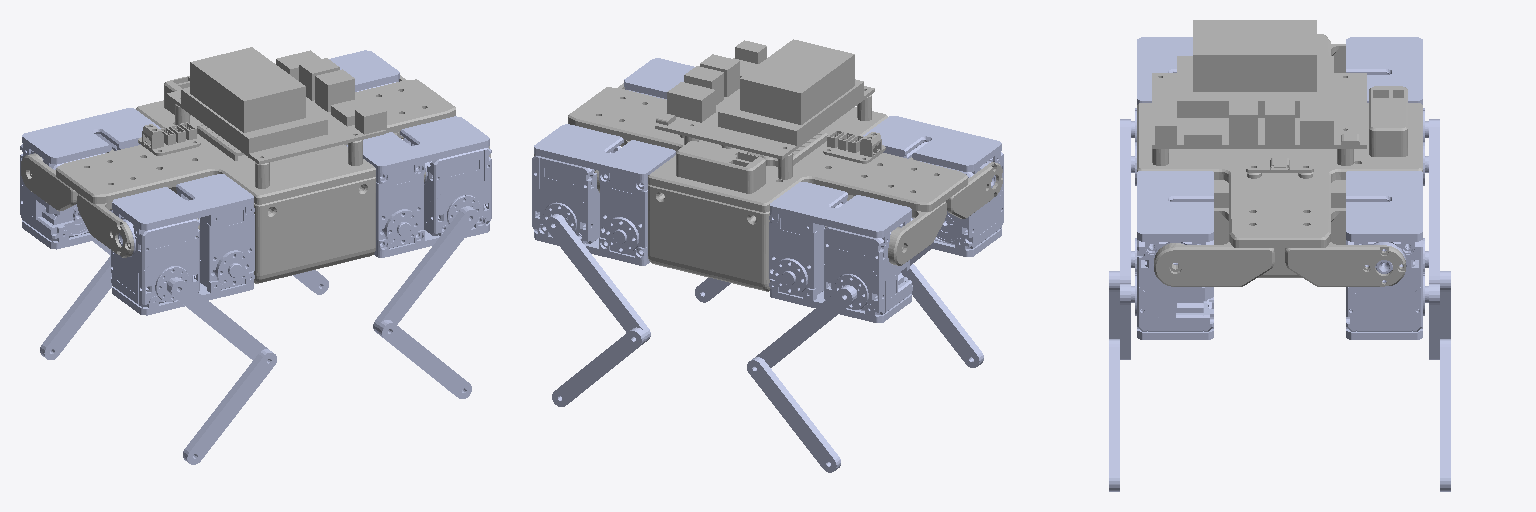
The robot description file, URDF, robot "3degree test platform":
<?xml version="1.0" encoding="utf-8"?>
<!-- This URDF was automatically created by SolidWorks to URDF Exporter! Originally created by [author] ([email redacted]) 
     Commit Version: 1.6.0-4-g7f85cfe  Build Version: 1.6.7995.38578
     For more information, please see http://wiki.ros.org/sw_urdf_exporter -->
<robot
  name="3degree test platform">
  <link
    name="base_link">
    <inertial>
      <origin
        xyz="-0.0311197086407892 -0.0204145251191985 0.000924896896361796"
        rpy="0 0 0" />
      <mass
        value="0.61039036366511" />
      <inertia
        ixx="0.000435135519969349"
        ixy="5.92110751523617E-06"
        ixz="-8.31280092665416E-08"
        iyy="0.000844122554378993"
        iyz="-1.76463324002978E-07"
        izz="0.000521417037543477" />
    </inertial>
    <visual>
      <origin
        xyz="0 0 0"
        rpy="0 0 0" />
      <geometry>
        <mesh
          filename="package://3degree test platform/meshes/base_link.STL" />
      </geometry>
      <material
        name="">
        <color
          rgba="0.752941176470588 0.752941176470588 0.752941176470588 1" />
      </material>
    </visual>
    <collision>
      <origin
        xyz="0 0 0"
        rpy="0 0 0" />
      <geometry>
        <mesh
          filename="package://3degree test platform/meshes/base_link.STL" />
      </geometry>
    </collision>
  </link>
  <link
    name="fl_Link">
    <inertial>
      <origin
        xyz="0.0362395767029127 -0.0121398501384815 -0.000881528506286373"
        rpy="0 0 0" />
      <mass
        value="0.11560667389092" />
      <inertia
        ixx="2.76732081187136E-05"
        ixy="-6.56282969538307E-09"
        ixz="-3.60918479312612E-07"
        iyy="2.76822507262423E-05"
        iyz="-2.55297253815695E-07"
        izz="3.30828540658261E-05" />
    </inertial>
    <visual>
      <origin
        xyz="0 0 0"
        rpy="0 0 0" />
      <geometry>
        <mesh
          filename="package://3degree test platform/meshes/fl_Link.STL" />
      </geometry>
      <material
        name="">
        <color
          rgba="0.792156862745098 0.819607843137255 0.933333333333333 1" />
      </material>
    </visual>
    <collision>
      <origin
        xyz="0 0 0"
        rpy="0 0 0" />
      <geometry>
        <mesh
          filename="package://3degree test platform/meshes/fl_Link.STL" />
      </geometry>
    </collision>
  </link>
  <joint
    name="fl"
    type="continuous">
    <origin
      xyz="0.00723678392728446 0.0485586045266115 -0.0196700000000004"
      rpy="1.5707963267949 0 0" />
    <parent
      link="base_link" />
    <child
      link="fl_Link" />
    <axis
      xyz="1 0 0" />
  </joint>
  <link
    name="flu_Link">
    <inertial>
      <origin
        xyz="-0.0265165020995654 -0.026516503711289 -0.00249999999573354"
        rpy="0 0 0" />
      <mass
        value="0.00406221232038081" />
      <inertia
        ixx="1.16080374642842E-06"
        ixy="-1.11891143624946E-06"
        ixz="9.24909482513556E-13"
        iyy="1.1608018641751E-06"
        iyz="9.24941943173796E-13"
        izz="2.30467945508178E-06" />
    </inertial>
    <visual>
      <origin
        xyz="0 0 0"
        rpy="0 0 0" />
      <geometry>
        <mesh
          filename="package://3degree test platform/meshes/flu_Link.STL" />
      </geometry>
      <material
        name="">
        <color
          rgba="0.792156862745098 0.819607843137255 0.933333333333333 1" />
      </material>
    </visual>
    <collision>
      <origin
        xyz="0 0 0"
        rpy="0 0 0" />
      <geometry>
        <mesh
          filename="package://3degree test platform/meshes/flu_Link.STL" />
      </geometry>
    </collision>
  </link>
  <joint
    name="flu"
    type="continuous">
    <origin
      xyz="0.0524464492407209 -0.024 -0.0209199999999988"
      rpy="0 0 0" />
    <parent
      link="fl_Link" />
    <child
      link="flu_Link" />
    <axis
      xyz="0 0 1" />
  </joint>
  <link
    name="fld_Link">
    <inertial>
      <origin
        xyz="0.0229815351311272 -0.0229799456975695 -0.00250250463302092"
        rpy="0 0 0" />
      <mass
        value="0.00356358894577057" />
      <inertia
        ixx="7.91122356308543E-07"
        ixy="7.54469385950876E-07"
        ixz="-5.80053827144257E-13"
        iyy="7.91255557818437E-07"
        iyz="2.43987109787925E-13"
        izz="1.56752946213248E-06" />
    </inertial>
    <visual>
      <origin
        xyz="0 0 0"
        rpy="0 0 0" />
      <geometry>
        <mesh
          filename="package://3degree test platform/meshes/fld_Link.STL" />
      </geometry>
      <material
        name="">
        <color
          rgba="0.792156862745098 0.819607843137255 0.933333333333333 1" />
      </material>
    </visual>
    <collision>
      <origin
        xyz="0 0 0"
        rpy="0 0 0" />
      <geometry>
        <mesh
          filename="package://3degree test platform/meshes/fld_Link.STL" />
      </geometry>
    </collision>
  </link>
  <joint
    name="fld"
    type="continuous">
    <origin
      xyz="-0.053033004189764 -0.053033008613312 -0.0049975000000005"
      rpy="0 0 0" />
    <parent
      link="flu_Link" />
    <child
      link="fld_Link" />
    <axis
      xyz="0 0 1" />
  </joint>
  <link
    name="fr_Link">
    <inertial>
      <origin
        xyz="0.0353657181607637 -0.0121399787446427 0.000881435283078963"
        rpy="0 0 0" />
      <mass
        value="0.115606879207845" />
      <inertia
        ixx="2.76728186374306E-05"
        ixy="3.82696997243698E-09"
        ixz="-3.378501964664E-07"
        iyy="2.76818351379137E-05"
        iyz="2.55279417459229E-07"
        izz="3.30820470853785E-05" />
    </inertial>
    <visual>
      <origin
        xyz="0 0 0"
        rpy="0 0 0" />
      <geometry>
        <mesh
          filename="package://3degree test platform/meshes/fr_Link.STL" />
      </geometry>
      <material
        name="">
        <color
          rgba="0.792156862745098 0.819607843137255 0.933333333333333 1" />
      </material>
    </visual>
    <collision>
      <origin
        xyz="0 0 0"
        rpy="0 0 0" />
      <geometry>
        <mesh
          filename="package://3degree test platform/meshes/fr_Link.STL" />
      </geometry>
    </collision>
  </link>
  <joint
    name="fr"
    type="continuous">
    <origin
      xyz="0.00723678407973238 -0.0485586045266115 -0.0196700000000008"
      rpy="1.5707963267949 0 0" />
    <parent
      link="base_link" />
    <child
      link="fr_Link" />
    <axis
      xyz="1 0 0" />
  </joint>
  <link
    name="fru_Link">
    <inertial>
      <origin
        xyz="-0.0265165030387197 -0.0265165045323048 0.00250000000426577"
        rpy="0 0 0" />
      <mass
        value="0.00406221250069797" />
      <inertia
        ixx="1.16080869001207E-06"
        ixy="-1.11891150591471E-06"
        ixz="9.24909485923803E-13"
        iyy="1.16079707496863E-06"
        iyz="9.24941947371285E-13"
        izz="2.30467960900816E-06" />
    </inertial>
    <visual>
      <origin
        xyz="0 0 0"
        rpy="0 0 0" />
      <geometry>
        <mesh
          filename="package://3degree test platform/meshes/fru_Link.STL" />
      </geometry>
      <material
        name="">
        <color
          rgba="0.792156862745098 0.819607843137255 0.933333333333333 1" />
      </material>
    </visual>
    <collision>
      <origin
        xyz="0 0 0"
        rpy="0 0 0" />
      <geometry>
        <mesh
          filename="package://3degree test platform/meshes/fru_Link.STL" />
      </geometry>
    </collision>
  </link>
  <joint
    name="fru"
    type="continuous">
    <origin
      xyz="0.0524464492407211 -0.0239999999999998 0.0209200000000011"
      rpy="0 0 0" />
    <parent
      link="fr_Link" />
    <child
      link="fru_Link" />
    <axis
      xyz="0 0 1" />
  </joint>
  <link
    name="frd_Link">
    <inertial>
      <origin
        xyz="0.022981633797964 -0.0229799882163145 0.00250249536696708"
        rpy="0 0 0" />
      <mass
        value="0.00356358008962891" />
      <inertia
        ixx="7.91115328078481E-07"
        ixy="7.54462412610955E-07"
        ixz="-5.80055447102428E-13"
        iyy="7.91249536329309E-07"
        iyz="2.43987801444827E-13"
        izz="1.56751643455364E-06" />
    </inertial>
    <visual>
      <origin
        xyz="0 0 0"
        rpy="0 0 0" />
      <geometry>
        <mesh
          filename="package://3degree test platform/meshes/frd_Link.STL" />
      </geometry>
      <material
        name="">
        <color
          rgba="0.792156862745098 0.819607843137255 0.933333333333333 1" />
      </material>
    </visual>
    <collision>
      <origin
        xyz="0 0 0"
        rpy="0 0 0" />
      <geometry>
        <mesh
          filename="package://3degree test platform/meshes/frd_Link.STL" />
      </geometry>
    </collision>
  </link>
  <joint
    name="frd"
    type="continuous">
    <origin
      xyz="-0.0530330041897637 -0.0530330086133077 0.00499749999999945"
      rpy="0 0 0" />
    <parent
      link="fru_Link" />
    <child
      link="frd_Link" />
    <axis
      xyz="0 0 1" />
  </joint>
  <link
    name="bl_Link">
    <inertial>
      <origin
        xyz="-0.0353464571678512 -0.0121606254194543 -0.000875200561694968"
        rpy="0 0 0" />
      <mass
        value="0.116495444264729" />
      <inertia
        ixx="2.77363489589443E-05"
        ixy="-3.68573106953368E-09"
        ixz="-3.37882395303874E-07"
        iyy="2.78662719891687E-05"
        iyz="-2.55164688296405E-07"
        izz="3.32158805188591E-05" />
    </inertial>
    <visual>
      <origin
        xyz="0 0 0"
        rpy="0 0 0" />
      <geometry>
        <mesh
          filename="package://3degree test platform/meshes/bl_Link.STL" />
      </geometry>
      <material
        name="">
        <color
          rgba="0.792156862745098 0.819607843137255 0.933333333333333 1" />
      </material>
    </visual>
    <collision>
      <origin
        xyz="0 0 0"
        rpy="0 0 0" />
      <geometry>
        <mesh
          filename="package://3degree test platform/meshes/bl_Link.STL" />
      </geometry>
    </collision>
  </link>
  <joint
    name="bl"
    type="continuous">
    <origin
      xyz="-0.0692103140818918 0.0485586045266112 -0.0196700000000009"
      rpy="1.5707963267949 0 0" />
    <parent
      link="base_link" />
    <child
      link="bl_Link" />
    <axis
      xyz="1 0 0" />
  </joint>
  <link
    name="blu_Link">
    <inertial>
      <origin
        xyz="0.026516359289063 -0.0265163614013916 -0.00250000001368499"
        rpy="0 0 0" />
      <mass
        value="0.00406221252110451" />
      <inertia
        ixx="1.16080200870849E-06"
        ixy="1.11890505626067E-06"
        ixz="-2.65763214325464E-13"
        iyy="1.16079034172286E-06"
        iyz="-2.67970507638661E-13"
        izz="2.30466619430576E-06" />
    </inertial>
    <visual>
      <origin
        xyz="0 0 0"
        rpy="0 0 0" />
      <geometry>
        <mesh
          filename="package://3degree test platform/meshes/blu_Link.STL" />
      </geometry>
      <material
        name="">
        <color
          rgba="0.792156862745098 0.819607843137255 0.933333333333333 1" />
      </material>
    </visual>
    <collision>
      <origin
        xyz="0 0 0"
        rpy="0 0 0" />
      <geometry>
        <mesh
          filename="package://3degree test platform/meshes/blu_Link.STL" />
      </geometry>
    </collision>
  </link>
  <joint
    name="blu"
    type="continuous">
    <origin
      xyz="-0.0524464492407213 -0.024 -0.0209199999999987"
      rpy="0 0 0" />
    <parent
      link="bl_Link" />
    <child
      link="blu_Link" />
    <axis
      xyz="0 0 1" />
  </joint>
  <link
    name="bld_Link">
    <inertial>
      <origin
        xyz="-0.0229817287808046 -0.0229800828045379 -0.00250249977425093"
        rpy="0 0 0" />
      <mass
        value="0.00356358935166861" />
      <inertia
        ixx="7.91121305989071E-07"
        ixy="-7.54472453255754E-07"
        ixz="7.29454584347321E-13"
        iyy="7.91260090690732E-07"
        iyz="9.46836634742546E-13"
        izz="1.56753289736021E-06" />
    </inertial>
    <visual>
      <origin
        xyz="0 0 0"
        rpy="0 0 0" />
      <geometry>
        <mesh
          filename="package://3degree test platform/meshes/bld_Link.STL" />
      </geometry>
      <material
        name="">
        <color
          rgba="0.792156862745098 0.819607843137255 0.933333333333333 1" />
      </material>
    </visual>
    <collision>
      <origin
        xyz="0 0 0"
        rpy="0 0 0" />
      <geometry>
        <mesh
          filename="package://3degree test platform/meshes/bld_Link.STL" />
      </geometry>
    </collision>
  </link>
  <joint
    name="bld"
    type="continuous">
    <origin
      xyz="0.0530330041897633 -0.0530330086133097 -0.00499750000000075"
      rpy="0 0 0" />
    <parent
      link="blu_Link" />
    <child
      link="bld_Link" />
    <axis
      xyz="0 0 1" />
  </joint>
  <link
    name="br_Link">
    <inertial>
      <origin
        xyz="-0.0362137061797602 -0.0121607563146248 0.000875117597896019"
        rpy="0 0 0" />
      <mass
        value="0.116495592825284" />
      <inertia
        ixx="2.77359509563257E-05"
        ixy="6.70303708263331E-09"
        ixz="-3.60932664637954E-07"
        iyy="2.78658252077998E-05"
        iyz="2.55147422966239E-07"
        izz="3.32150550189634E-05" />
    </inertial>
    <visual>
      <origin
        xyz="0 0 0"
        rpy="0 0 0" />
      <geometry>
        <mesh
          filename="package://3degree test platform/meshes/br_Link.STL" />
      </geometry>
      <material
        name="">
        <color
          rgba="0.792156862745098 0.819607843137255 0.933333333333333 1" />
      </material>
    </visual>
    <collision>
      <origin
        xyz="0 0 0"
        rpy="0 0 0" />
      <geometry>
        <mesh
          filename="package://3degree test platform/meshes/br_Link.STL" />
      </geometry>
    </collision>
  </link>
  <joint
    name="br"
    type="continuous">
    <origin
      xyz="-0.0692103139294439 -0.0485586045266115 -0.0196700000000008"
      rpy="1.5707963267949 0 0" />
    <parent
      link="base_link" />
    <child
      link="br_Link" />
    <axis
      xyz="1 0 0" />
  </joint>
  <link
    name="bru_Link">
    <inertial>
      <origin
        xyz="0.0265163583499024 -0.0265163605803621 0.00249999998631462"
        rpy="0 0 0" />
      <mass
        value="0.00406221234078735" />
      <inertia
        ixx="1.16079706512389E-06"
        ixy="1.1189049865944E-06"
        ixz="-2.65763218628106E-13"
        iyy="1.16079513092825E-06"
        iyz="-2.67970502655769E-13"
        izz="2.30466604037735E-06" />
    </inertial>
    <visual>
      <origin
        xyz="0 0 0"
        rpy="0 0 0" />
      <geometry>
        <mesh
          filename="package://3degree test platform/meshes/bru_Link.STL" />
      </geometry>
      <material
        name="">
        <color
          rgba="0.792156862745098 0.819607843137255 0.933333333333333 1" />
      </material>
    </visual>
    <collision>
      <origin
        xyz="0 0 0"
        rpy="0 0 0" />
      <geometry>
        <mesh
          filename="package://3degree test platform/meshes/bru_Link.STL" />
      </geometry>
    </collision>
  </link>
  <joint
    name="bru"
    type="continuous">
    <origin
      xyz="-0.052446449240721 -0.0239999999999998 0.0209200000000011"
      rpy="0 0 0" />
    <parent
      link="br_Link" />
    <child
      link="bru_Link" />
    <axis
      xyz="0 0 1" />
  </joint>
  <link
    name="brd_Link">
    <inertial>
      <origin
        xyz="-0.0229816301139911 -0.0229800402856714 0.00250250022574768"
        rpy="0 0 0" />
      <mass
        value="0.00356359820780952" />
      <inertia
        ixx="7.91128334247562E-07"
        ixy="-7.54479426643104E-07"
        ixz="7.29454678506929E-13"
        iyy="7.91266112246435E-07"
        iyz="9.46836684121223E-13"
        izz="1.56754592503405E-06" />
    </inertial>
    <visual>
      <origin
        xyz="0 0 0"
        rpy="0 0 0" />
      <geometry>
        <mesh
          filename="package://3degree test platform/meshes/brd_Link.STL" />
      </geometry>
      <material
        name="">
        <color
          rgba="0.792156862745098 0.819607843137255 0.933333333333333 1" />
      </material>
    </visual>
    <collision>
      <origin
        xyz="0 0 0"
        rpy="0 0 0" />
      <geometry>
        <mesh
          filename="package://3degree test platform/meshes/brd_Link.STL" />
      </geometry>
    </collision>
  </link>
  <joint
    name="brd"
    type="continuous">
    <origin
      xyz="0.0530330041897634 -0.0530330086133066 0.00499749999999945"
      rpy="0 0 0" />
    <parent
      link="bru_Link" />
    <child
      link="brd_Link" />
    <axis
      xyz="0 0 1" />
  </joint>
</robot>

--- What the picture shows (computed from the rendered views, not written in the file) ---
3 views of the same robot in one strip: view 1: azimuth 30°, elevation 25°; view 2: azimuth 150°, elevation 25°; view 3: azimuth 270°, elevation 25° (orthographic).
Model 3degree test platform with 13 links and 12 joints (12 continuous), rooted at base_link, posed all joints at 0.
Links seen in each view (by area): view 1: base_link, br_Link, fr_Link, bl_Link, fru_Link, brd_Link, bld_Link, bru_Link, frd_Link, fl_Link; view 2: base_link, bl_Link, fl_Link, br_Link, flu_Link, bld_Link, brd_Link, blu_Link, fld_Link, fr_Link; view 3: base_link, fl_Link, fr_Link, bl_Link, br_Link, blu_Link, bru_Link, fld_Link, frd_Link, flu_Link, fru_Link, bld_Link (+1 smaller).
Link boxes in pixels (x1,y1,x2,y2): base_link: [21, 47, 490, 283]; br_Link: [111, 174, 254, 315]; fr_Link: [363, 116, 491, 257]; bl_Link: [20, 108, 160, 249]; fru_Link: [373, 206, 478, 333]; brd_Link: [183, 349, 276, 464]; bld_Link: [40, 256, 111, 359]; bru_Link: [167, 277, 267, 359]; frd_Link: [378, 320, 471, 398]; fl_Link: [329, 50, 399, 146]; base_link: [534, 39, 1002, 291]; bl_Link: [769, 182, 912, 322]; fl_Link: [532, 124, 675, 265]; br_Link: [863, 116, 1003, 256]; flu_Link: [545, 214, 650, 341]; bld_Link: [747, 357, 840, 472]; brd_Link: [902, 264, 983, 367]; blu_Link: [756, 285, 856, 367]; fld_Link: [552, 327, 645, 406]; fr_Link: [624, 58, 694, 99]; base_link: [1137, 20, 1422, 286]; fl_Link: [1346, 171, 1428, 339]; fr_Link: [1131, 171, 1213, 339]; bl_Link: [1346, 37, 1428, 185]; br_Link: [1131, 37, 1192, 185]; blu_Link: [1429, 119, 1439, 283]; bru_Link: [1120, 119, 1130, 283]; fld_Link: [1440, 339, 1450, 491]; frd_Link: [1109, 339, 1119, 491]; flu_Link: [1429, 284, 1439, 359]; fru_Link: [1120, 284, 1130, 359]; bld_Link: [1440, 271, 1450, 338].
Size in the robot's own frame: 0.2264 by 0.159 by 0.188 metres.
13 mesh visuals loaded from 13 distinct referenced files (13 binary STL).